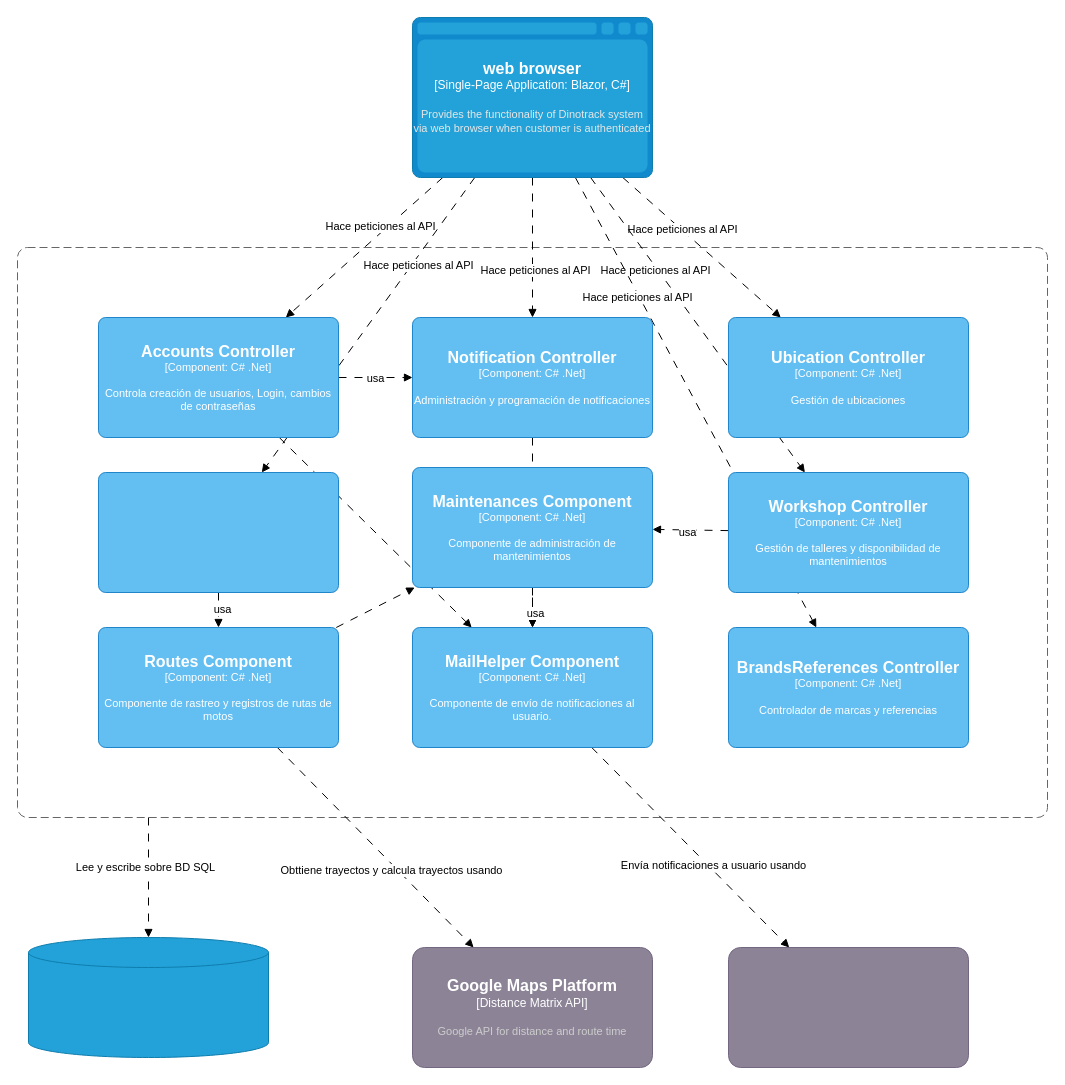
Some shapes in this 1065 by 1085 pixel diagram are drawn without their labels. The box of each missing label's shape, as (x1, y1, x2, y2) in pixels:
Api - Backend [Software System]: (16, 246, 1048, 818)
Bikes Controller [Component: C# .Net] Administración de motocicletas: (98, 472, 338, 592)
Container name [BD: SQL Server ] SQl Server Database: (28, 936, 268, 1058)
External Notification System [Software System] SMS and E-mail delivery system: (728, 946, 968, 1068)
